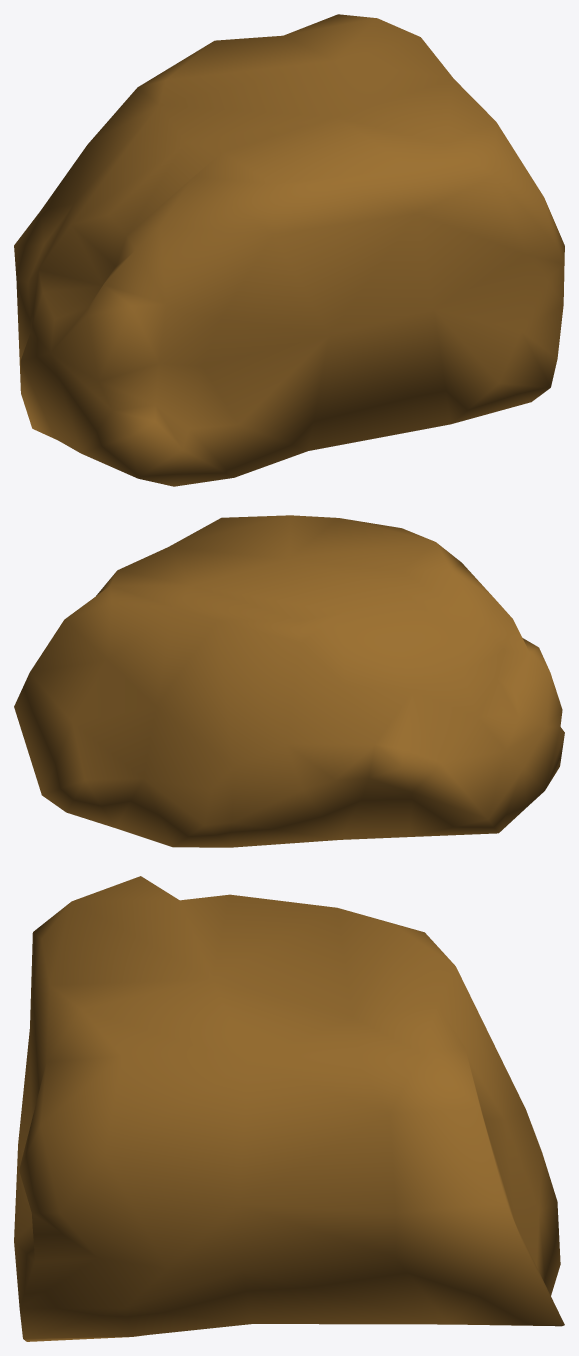
The model's file is MSH_Rock_Single_14.FBX.
3 views of the same model, one above another, from view 1: azimuth 30°, elevation 25°; view 2: azimuth 150°, elevation 25°; view 3: azimuth 270°, elevation 25° (orthographic). The views are drawn at different scales.
Parts seen in each view (by area): view 1: MESH_LOD0; view 2: MESH_LOD0; view 3: MESH_LOD0.
Boxes of the visible parts, x1,y1,x2,y2 form: MESH_LOD0: (14, 14, 564, 486); MESH_LOD0: (14, 515, 564, 847); MESH_LOD0: (14, 876, 564, 1341).
Size of what is drawn, in the model's own units: 33.83 by 17.08 by 27.19.
